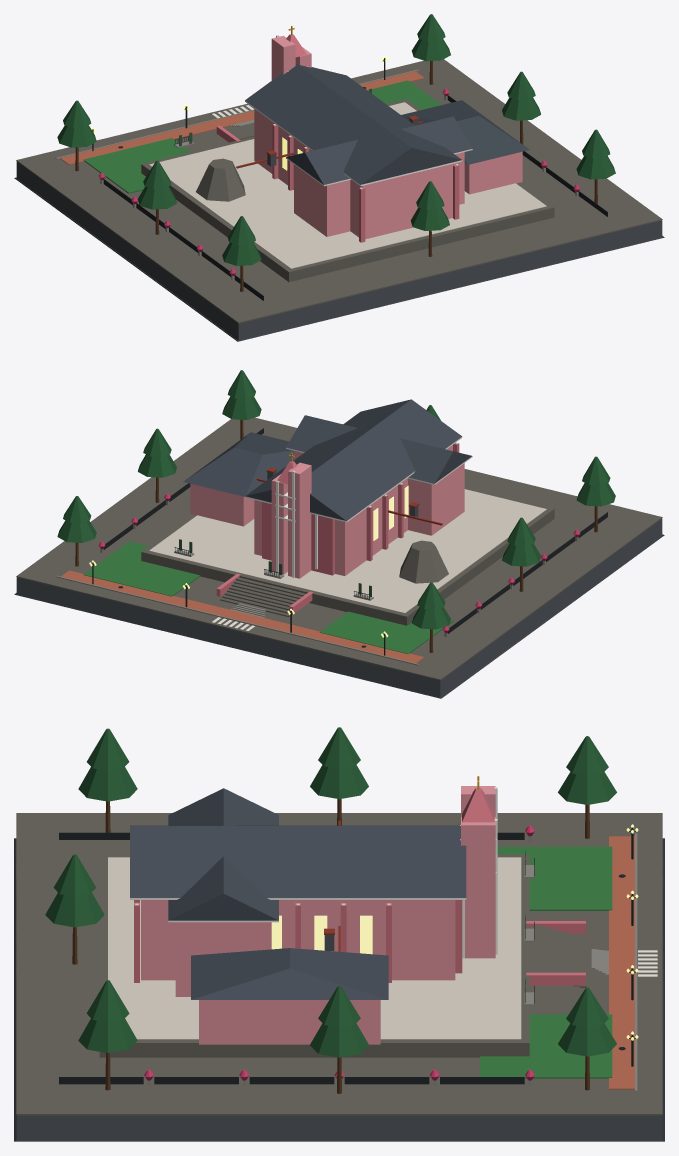
File: lm_42_nha_tho_thanh_mau.glb
The picture shows the model from 3 angles, top to bottom: view 1: azimuth 30°, elevation 25°; view 2: azimuth 150°, elevation 25°; view 3: azimuth 270°, elevation 25°; orthographic projection. The views are drawn at different scales.
Parts seen in each view (by area): view 1: Foundation_Plinth_Trim, ThanhMau_Courtyard_Esplanade, Foundation_Skirt, ThanhMau_Nave_Steep_Gable_Roof, ThanhMau_Pastel_Pink_Walls, ThanhMau_Pine_Canopies, ThanhMau_Stone_Podium_And_Grotto, ThanhMau_Garden_Lawns, ThanhMau_Transept_Cross_Roof, ThanhMau_Pastoral_House_Roof, Phase2_Interlocking_Brick_Sidewalk, ThanhMau_Coral_Pink_Buttresses (+3 smaller); view 2: Foundation_Plinth_Trim, ThanhMau_Courtyard_Esplanade, Foundation_Skirt, ThanhMau_Pastel_Pink_Walls, ThanhMau_Nave_Steep_Gable_Roof, ThanhMau_Stone_Podium_And_Grotto, ThanhMau_Pine_Canopies, ThanhMau_Garden_Lawns, ThanhMau_Pastoral_House_Roof, ThanhMau_Coral_Pink_Buttresses, ThanhMau_Transept_Cross_Roof, Phase2_Interlocking_Brick_Sidewalk (+4 smaller); view 3: Foundation_Plinth_Trim, ThanhMau_Pastel_Pink_Walls, ThanhMau_Nave_Steep_Gable_Roof, ThanhMau_Courtyard_Esplanade, Foundation_Skirt, ThanhMau_Pine_Canopies, ThanhMau_Stone_Podium_And_Grotto, ThanhMau_Garden_Lawns, ThanhMau_Pastoral_House_Roof, ThanhMau_Transept_Cross_Roof, Phase2_Interlocking_Brick_Sidewalk, Phase2_WroughtIron_Balconies_Railings_Manholes (+5 smaller).
Part boxes in pixels (<box>): Foundation_Plinth_Trim: <box>16,59,662,323</box>; ThanhMau_Courtyard_Esplanade: <box>149,102,546,268</box>; Foundation_Skirt: <box>14,162,664,341</box>; ThanhMau_Nave_Steep_Gable_Roof: <box>245,63,461,184</box>; ThanhMau_Pastel_Pink_Walls: <box>254,35,522,239</box>; ThanhMau_Pine_Canopies: <box>57,14,615,265</box>; ThanhMau_Stone_Podium_And_Grotto: <box>141,99,554,282</box>; ThanhMau_Garden_Lawns: <box>83,80,441,193</box>; ThanhMau_Transept_Cross_Roof: <box>286,116,472,184</box>; ThanhMau_Pastoral_House_Roof: <box>401,100,529,164</box>; Phase2_Interlocking_Brick_Sidewalk: <box>60,71,424,164</box>; ThanhMau_Coral_Pink_Buttresses: <box>216,34,459,242</box>; Foundation_Plinth_Trim: <box>16,417,662,680</box>; ThanhMau_Courtyard_Esplanade: <box>149,489,546,613</box>; Foundation_Skirt: <box>14,519,664,698</box>; ThanhMau_Pastel_Pink_Walls: <box>190,445,464,578</box>; ThanhMau_Nave_Steep_Gable_Roof: <box>245,399,461,520</box>; ThanhMau_Stone_Podium_And_Grotto: <box>141,487,554,625</box>; ThanhMau_Pine_Canopies: <box>57,370,615,629</box>; ThanhMau_Garden_Lawns: <box>83,541,453,653</box>; ThanhMau_Pastoral_House_Roof: <box>183,432,293,496</box>; ThanhMau_Coral_Pink_Buttresses: <box>216,443,459,614</box>; ThanhMau_Transept_Cross_Roof: <box>286,415,471,483</box>; Phase2_Interlocking_Brick_Sidewalk: <box>61,570,424,663</box>; Foundation_Plinth_Trim: <box>16,813,662,1115</box>; ThanhMau_Pastel_Pink_Walls: <box>141,786,495,1044</box>; ThanhMau_Nave_Steep_Gable_Roof: <box>130,825,466,897</box>; ThanhMau_Courtyard_Esplanade: <box>108,857,521,1039</box>; Foundation_Skirt: <box>14,838,664,1141</box>; ThanhMau_Pine_Canopies: <box>45,727,616,1057</box>; ThanhMau_Stone_Podium_And_Grotto: <box>99,854,586,1057</box>; ThanhMau_Garden_Lawns: <box>480,846,612,1078</box>; ThanhMau_Pastoral_House_Roof: <box>191,948,388,999</box>; ThanhMau_Transept_Cross_Roof: <box>168,788,278,920</box>; Phase2_Interlocking_Brick_Sidewalk: <box>609,836,634,1089</box>; Phase2_WroughtIron_Balconies_Railings_Manholes: <box>59,827,636,1084</box>.
Bounding box in the file's own units: 86.83 × 28.5 × 78.75.
